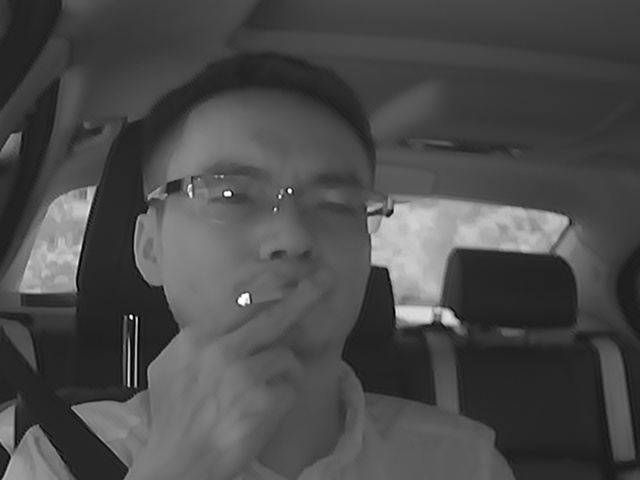hand: (197, 265, 337, 424)
